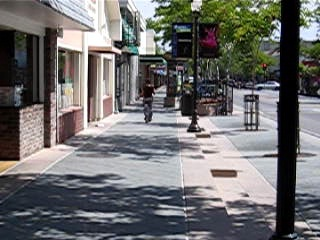person: (142, 79, 157, 126), (141, 79, 156, 126), (143, 79, 158, 126), (142, 78, 157, 125), (142, 80, 157, 127)
target_negative: (50, 136, 260, 233), (80, 9, 309, 88), (196, 48, 249, 222), (97, 25, 222, 62), (252, 202, 282, 218), (280, 117, 281, 210)
